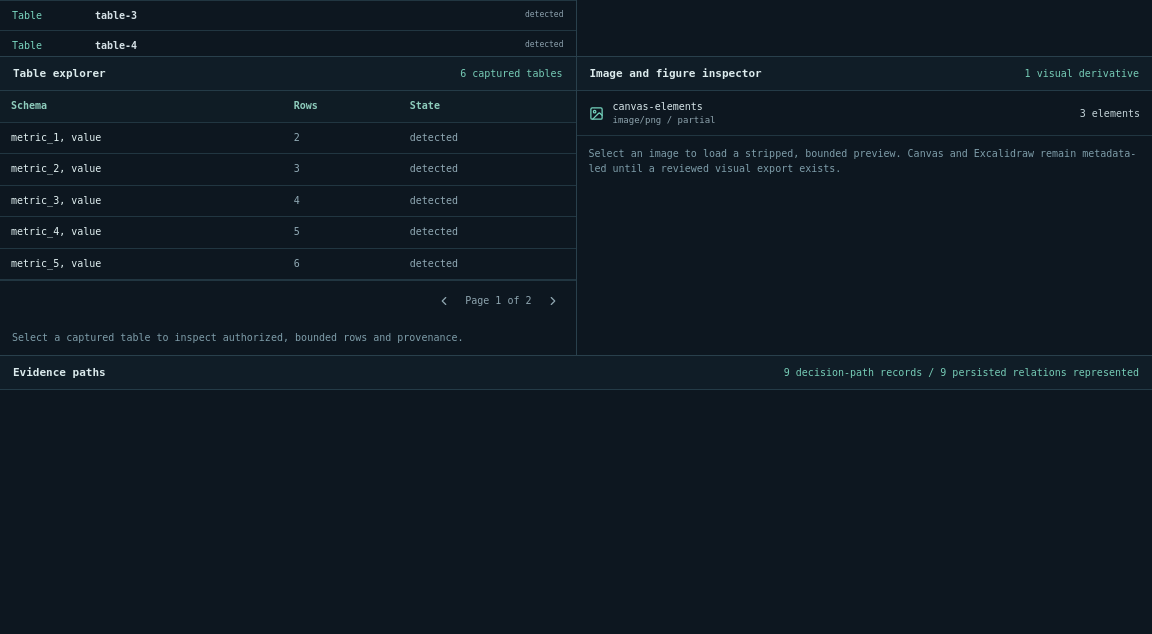
Test: EvidenceWorkspace graph projection › renders filterable table pagination and a visual metadata inspector without source bodies
(page scrolled)
Expected: the text "Table explorer" is shown, [13,67,106,80]
Expected: the text "Image and figure inspector" is shown, [590,67,762,80]
Click the button named "Next table page".
click(552, 300)  # box [540,288,566,313]
(page scrolled)
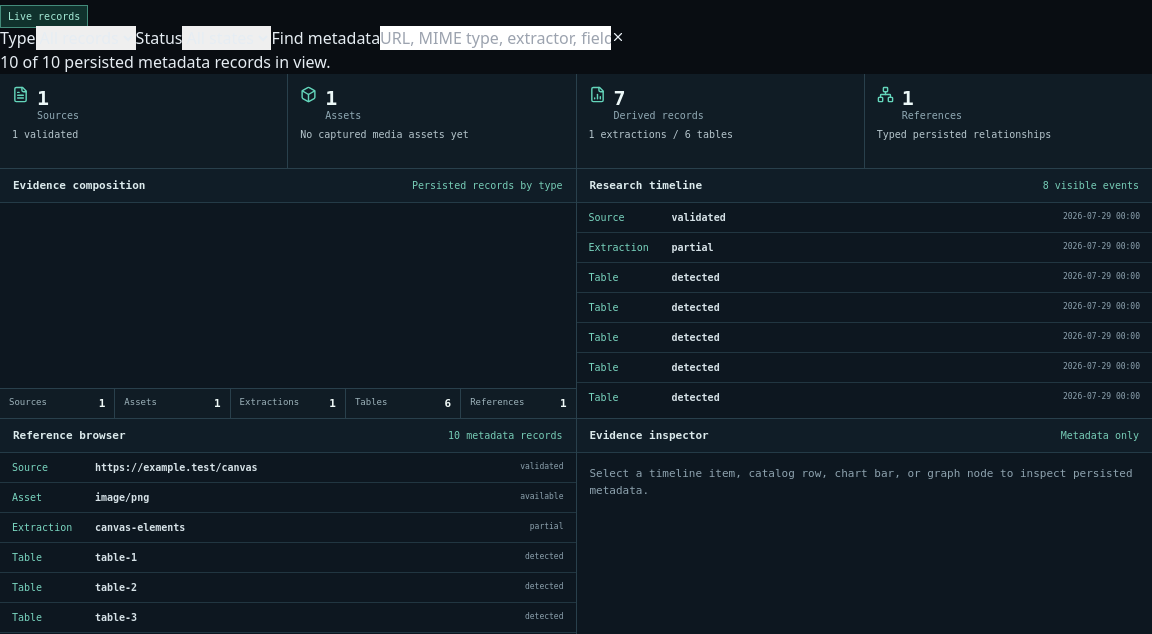
Select "Table" in the dropdown named "Evidence record type" at (86, 38), box [36,26,136,50]
(page scrolled)
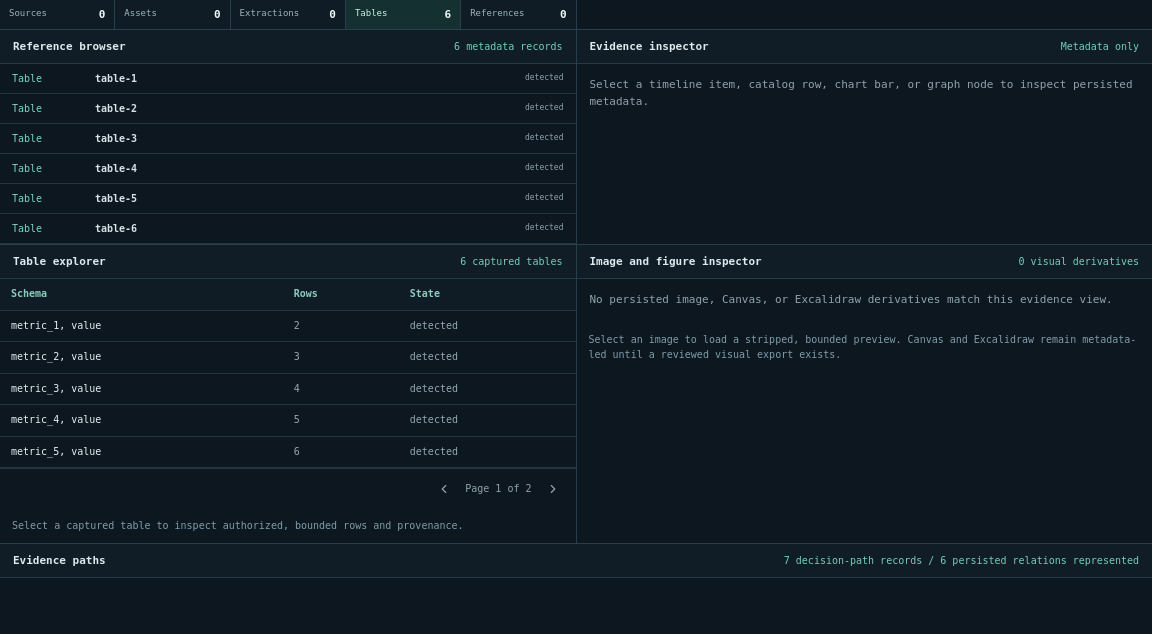
Expected: the text "No persisted image, Canvas, or Excalidraw derivatives match this evidence view." is shown, [590,293,1113,306]
